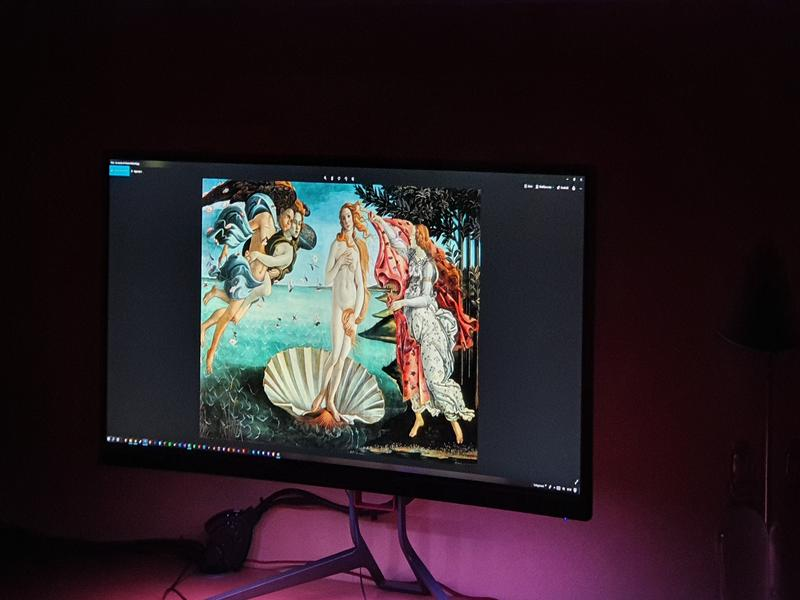Venere: (195, 176, 482, 468)
